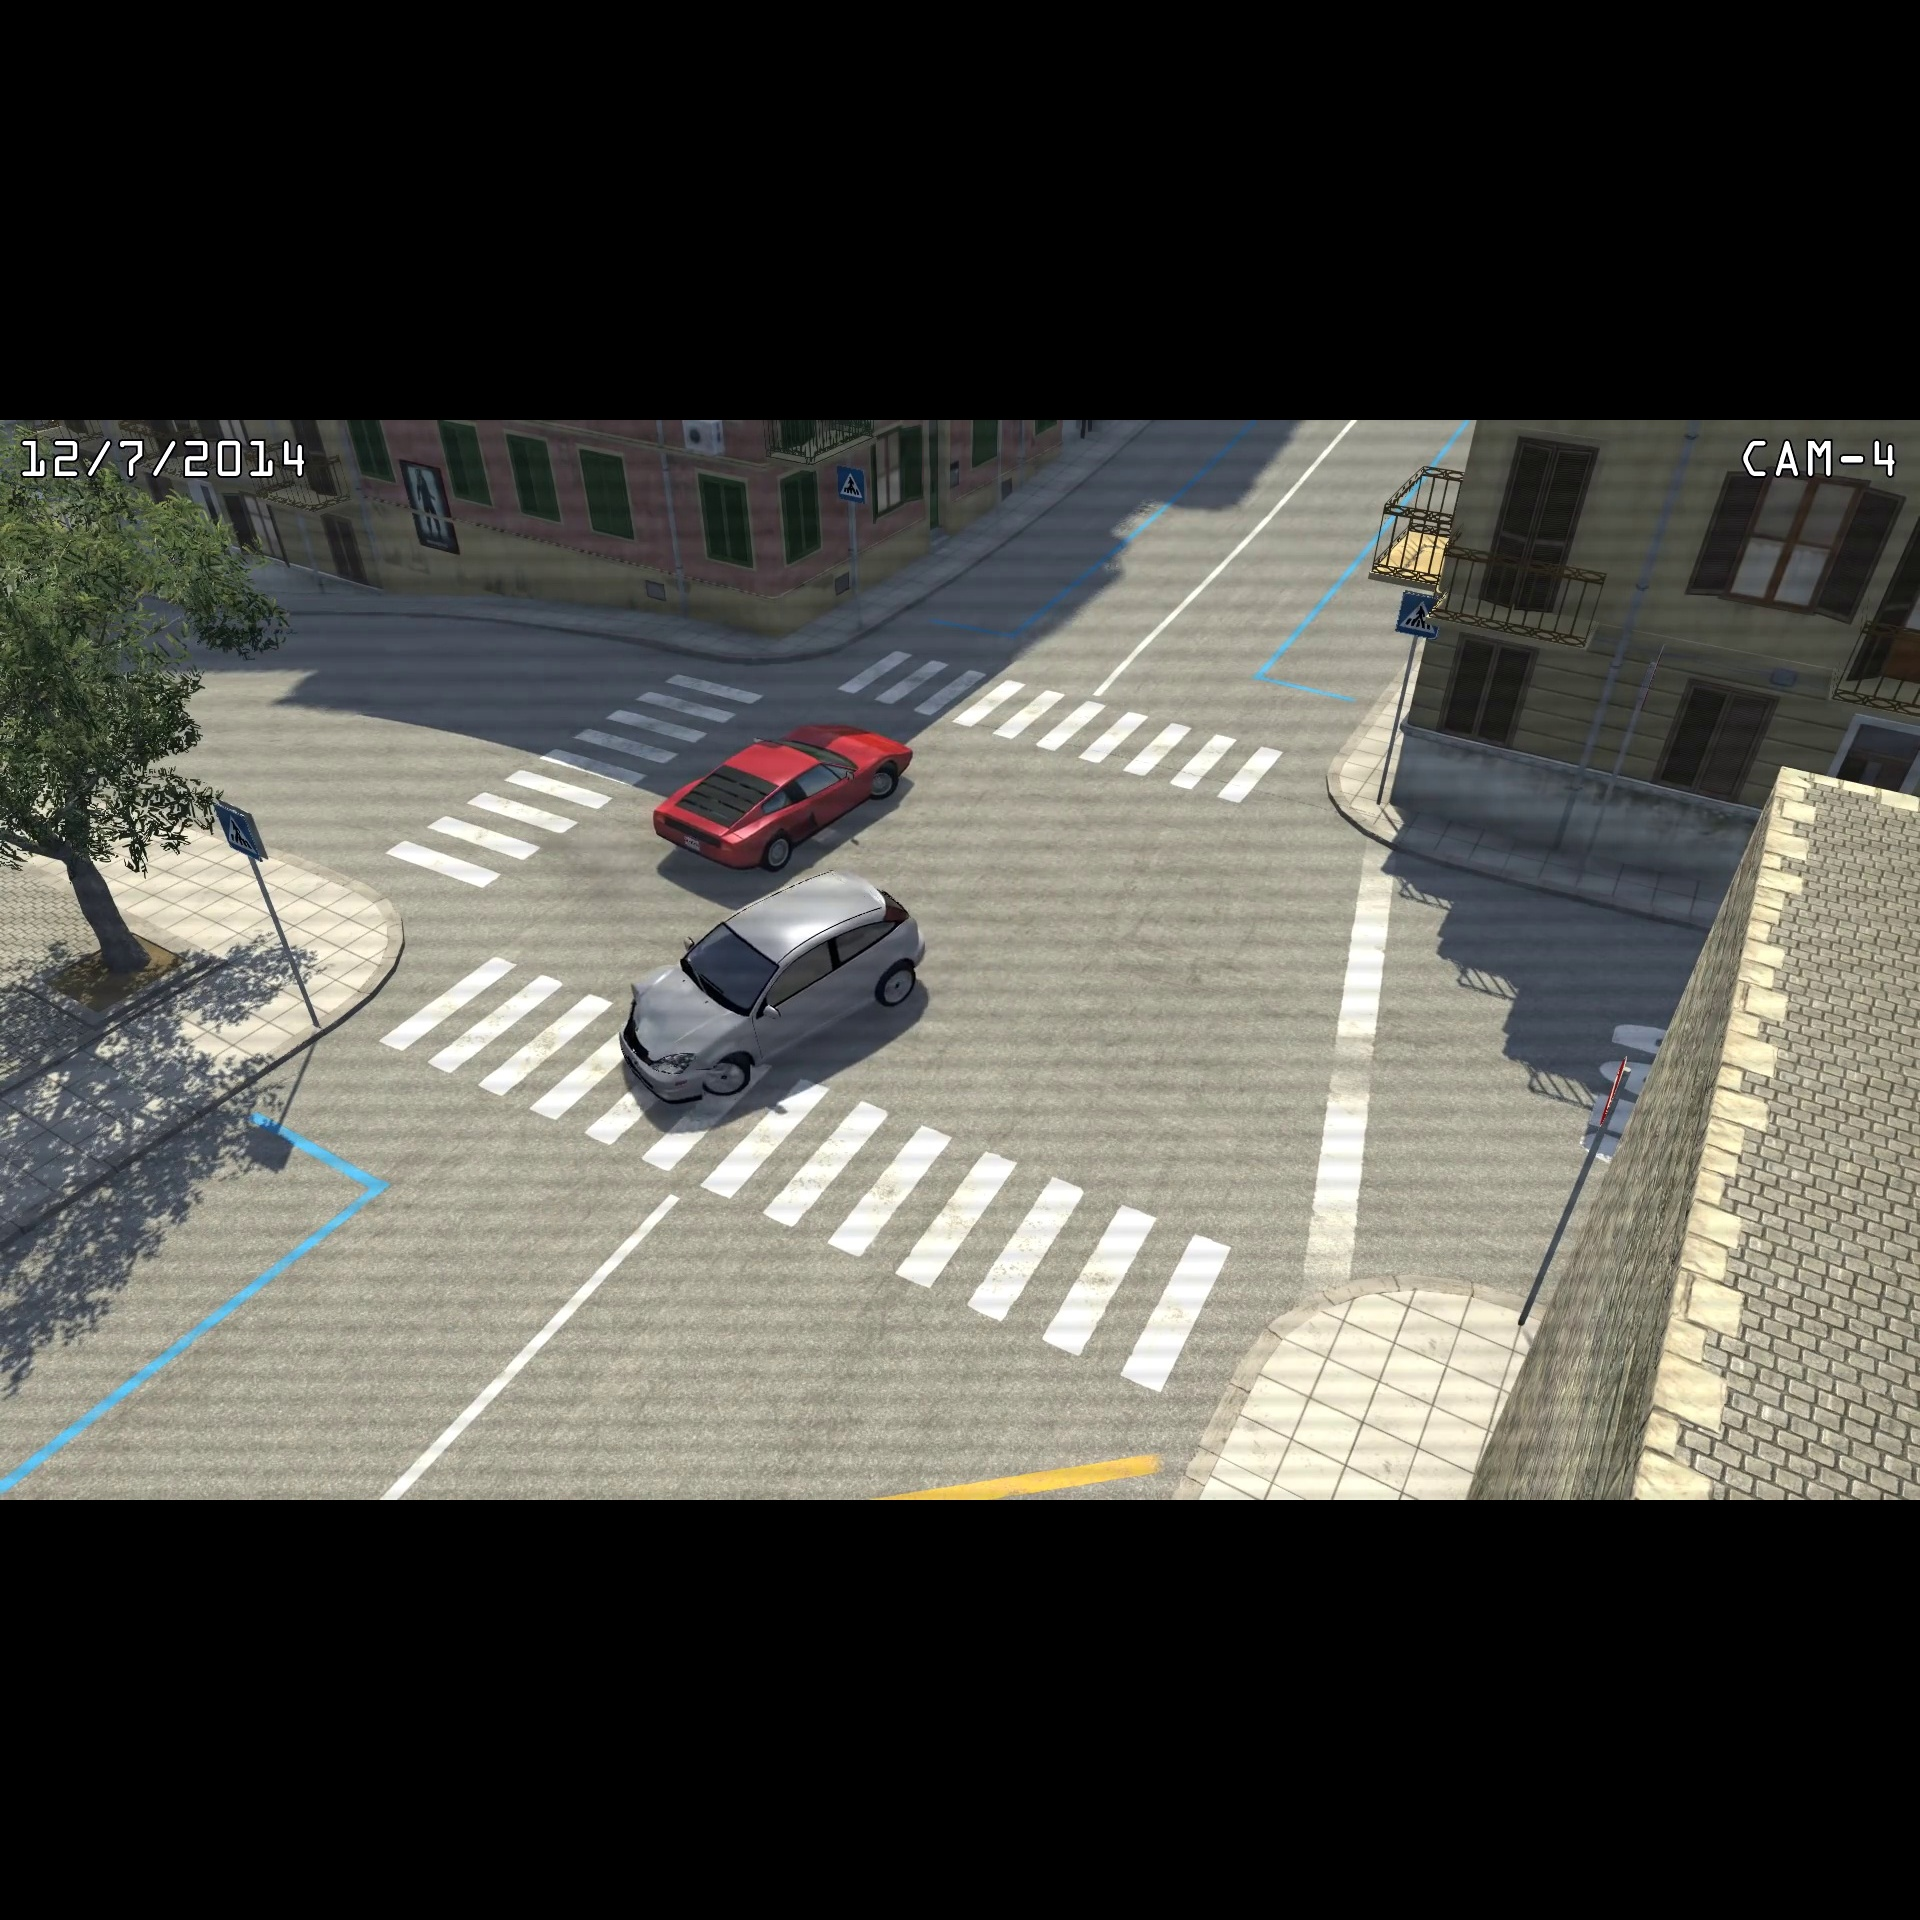vehicle: (615, 860, 937, 1108), (651, 709, 921, 879)
